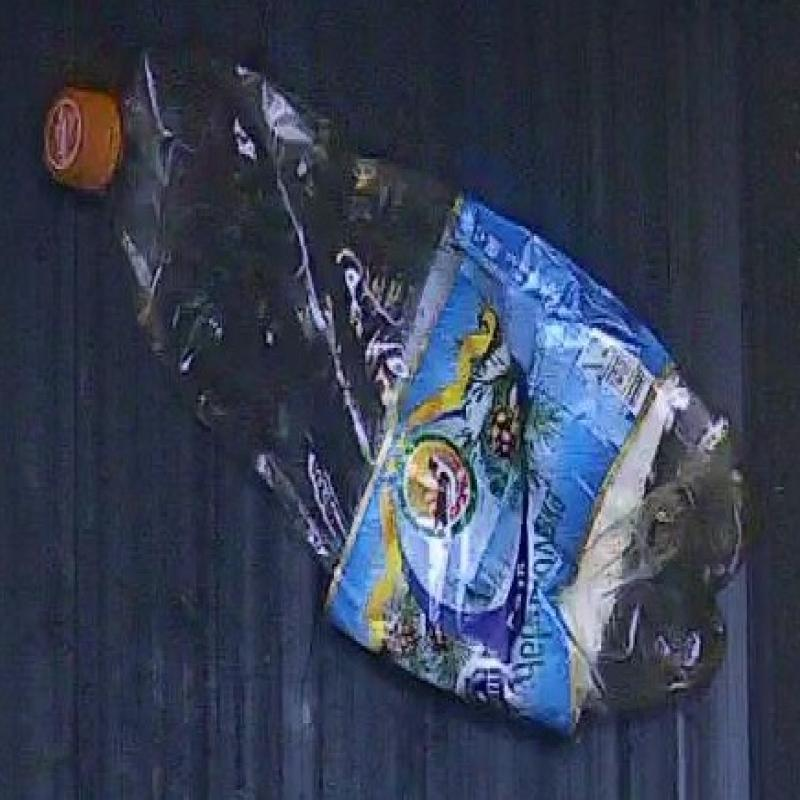botella: (38, 57, 748, 716)
